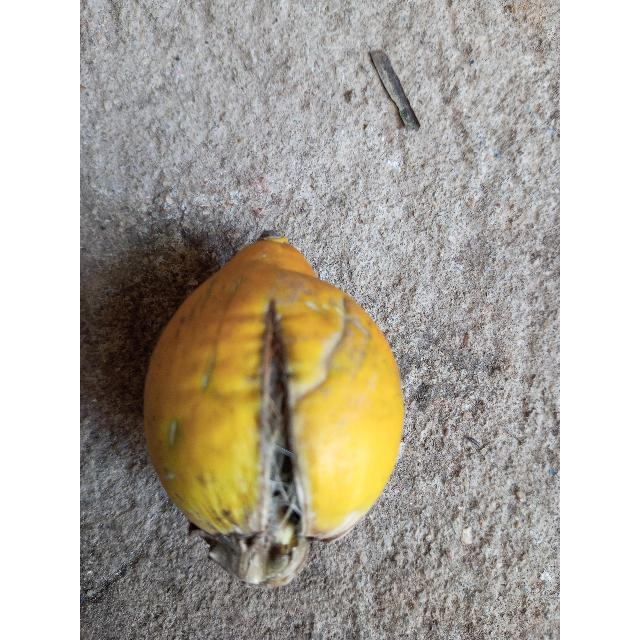damaged: (143, 235, 405, 590)
